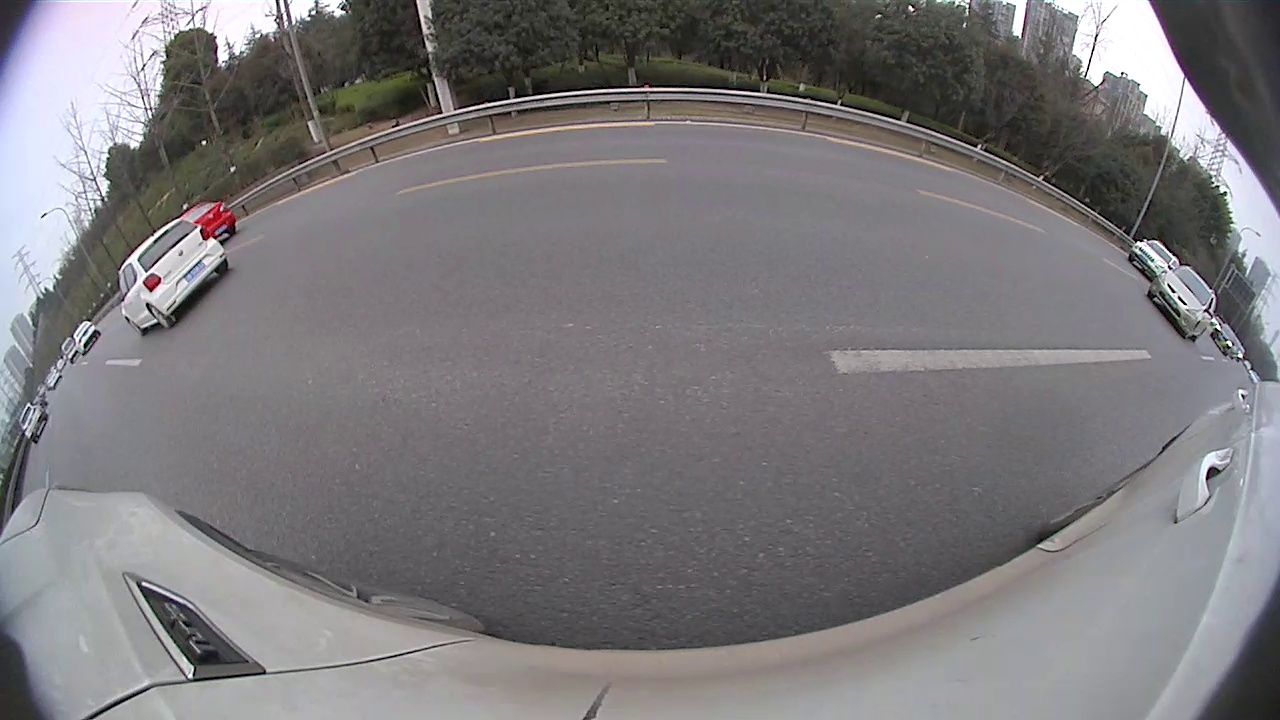bus: (834, 107, 1239, 296), (737, 133, 843, 199)
car: (1, 278, 226, 498), (1092, 250, 1279, 448), (597, 127, 738, 232), (489, 145, 585, 210), (732, 160, 768, 194)
front: (74, 356, 184, 485), (1109, 325, 1200, 432), (859, 182, 886, 215)
rear: (1011, 220, 1067, 282), (554, 175, 570, 204), (780, 172, 794, 193)
